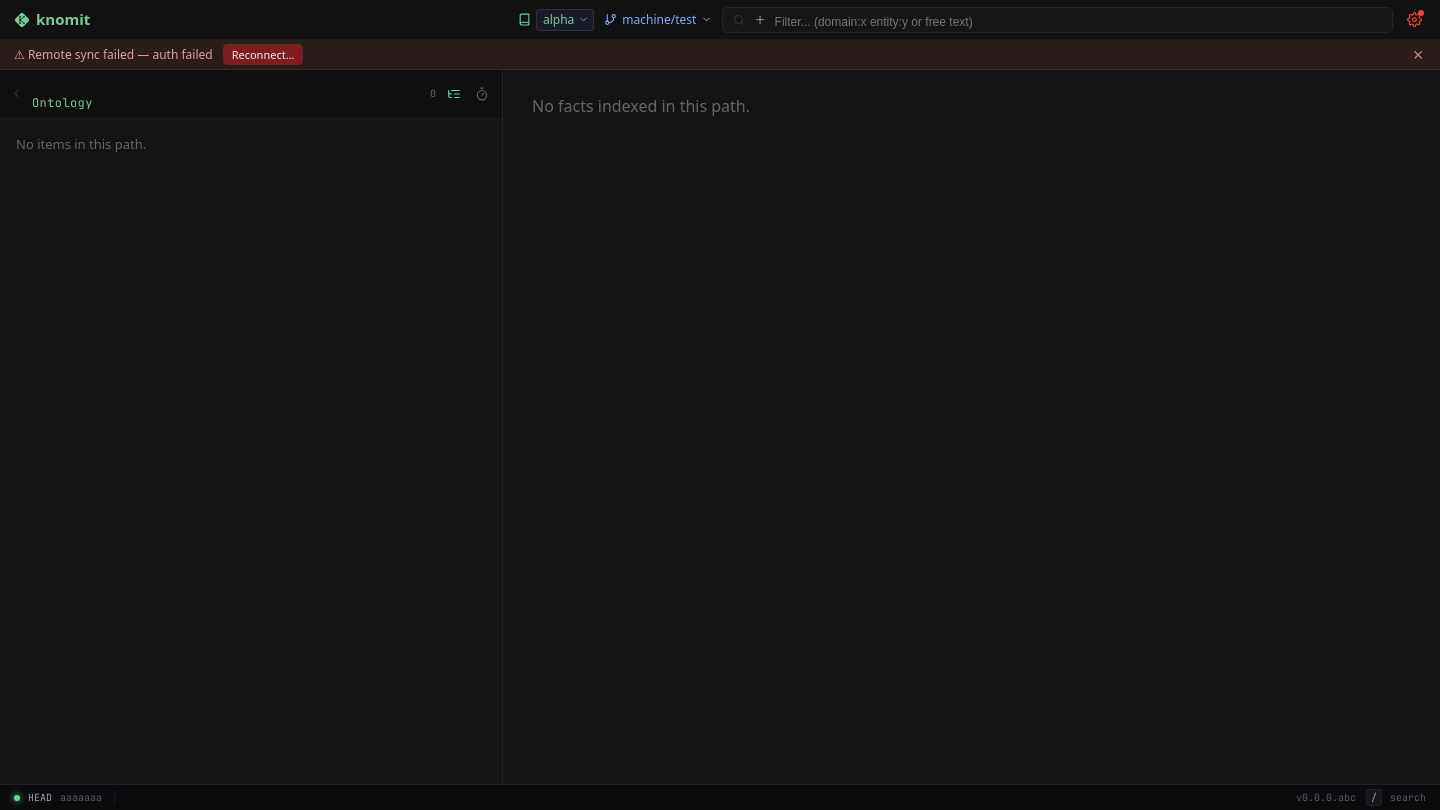
Scenario: App — remote-error banner lifecycle › Reconnect… clears the banner and switches to Manage
Check: the element with test id "status-footer" is shown, box x1=0 y1=784 x2=1439 y2=809
Click the button with test id "remote-error-reconnect" at (263, 54), box x1=223 y1=44 x2=303 y2=65
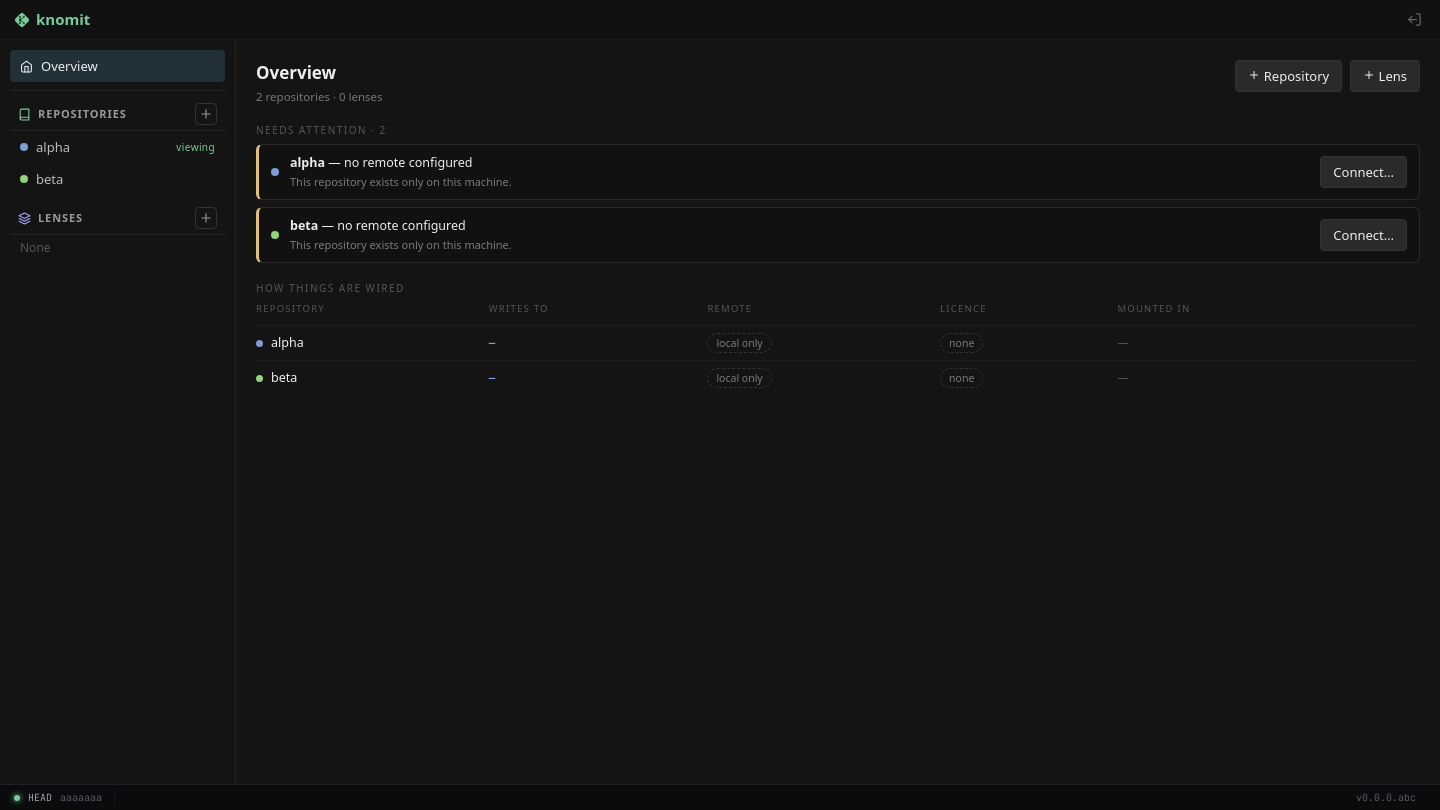
Check: the element with test id "manage-surface" is shown
Check: the element with test id "remote-error-banner" is gone
